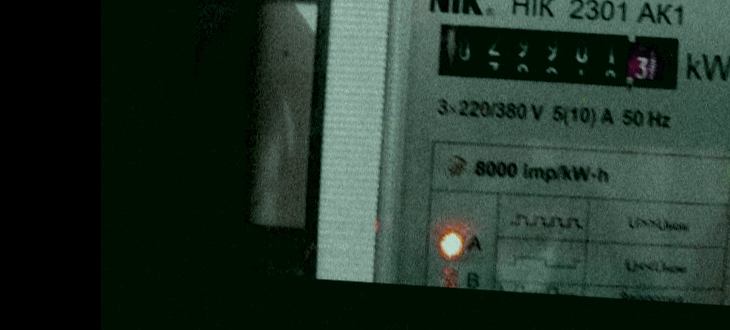0: (456, 34, 475, 62), (575, 35, 592, 65)
1: (606, 36, 620, 65)
2: (486, 30, 506, 58)
3: (634, 53, 652, 80)
9: (516, 32, 534, 60), (547, 35, 561, 62)
screen: (429, 12, 693, 101)
